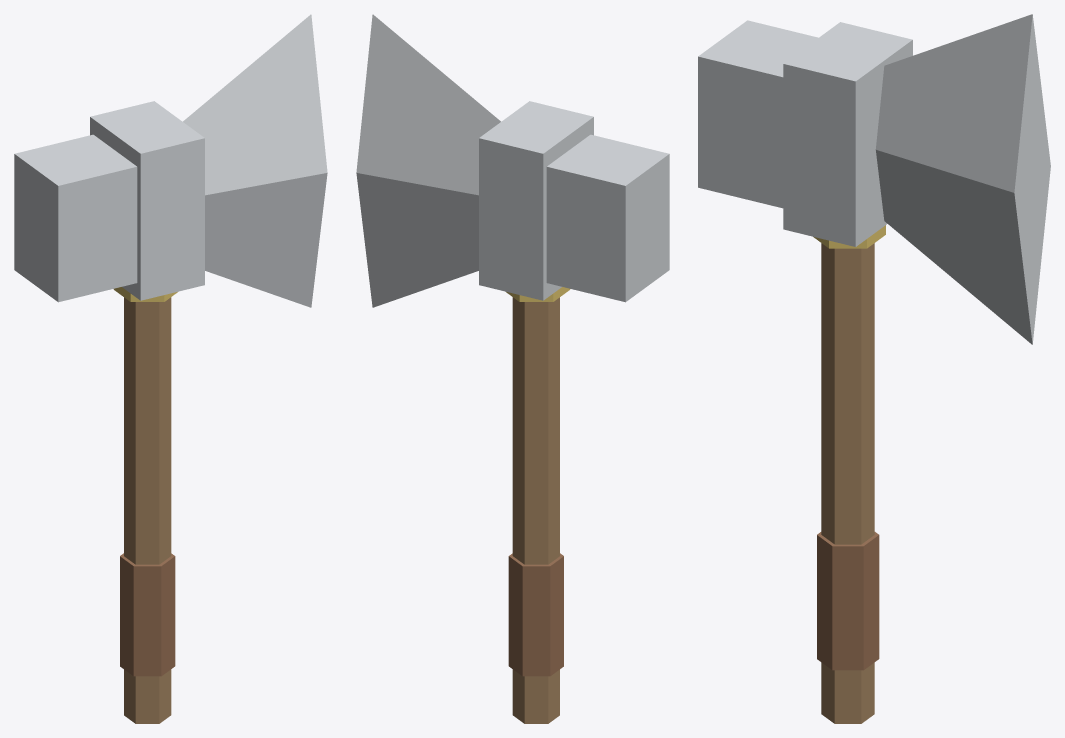
File: axe.glb
The picture shows the model from 3 angles, left to right: view 1: azimuth 30°, elevation 25°; view 2: azimuth 150°, elevation 25°; view 3: azimuth 330°, elevation 25°; orthographic projection. The views are drawn at different scales.
Parts seen in each view (by area): view 1: axe_blade, axe_poll, axe_haft, axe_hub, axe_wrap; view 2: axe_blade, axe_poll, axe_haft, axe_hub, axe_wrap; view 3: axe_blade, axe_hub, axe_haft, axe_poll, axe_wrap.
Boxes of the visible parts, x1,y1,x2,y2 form: axe_blade: (183,14,327,307); axe_poll: (14,134,137,302); axe_haft: (124,297,171,723); axe_hub: (90,101,204,300); axe_wrap: (120,553,175,676); axe_blade: (356,14,500,307); axe_poll: (546,134,669,302); axe_haft: (512,297,559,723); axe_hub: (479,101,593,300); axe_wrap: (508,553,563,676); axe_blade: (875,14,1050,344); axe_hub: (783,22,912,246); axe_haft: (821,243,874,723); axe_poll: (698,20,818,208); axe_wrap: (817,532,879,670).
Size of the model in its own units: 0.47 by 1.08 by 0.15.
